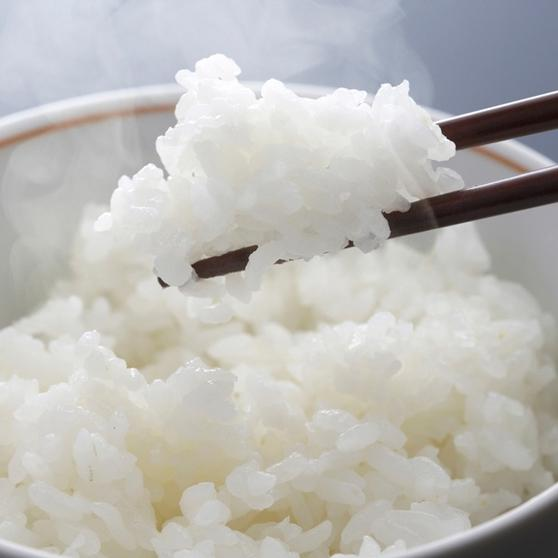rice: (14, 87, 551, 558)
